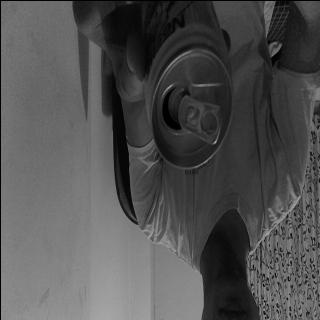alumunium_can: (142, 0, 232, 174)
